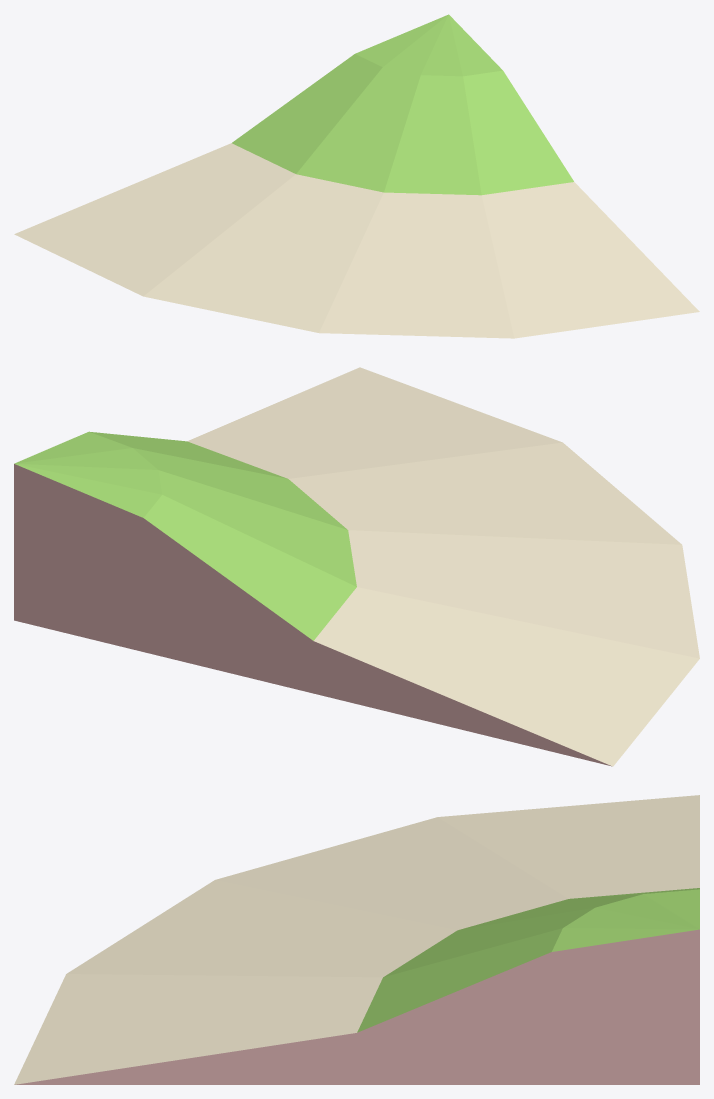
File: Path_Terrain_Basic_Curve_Outer_1x1.glb
3 renders of one model, top to bottom at view 1: azimuth 30°, elevation 25°; view 2: azimuth 150°, elevation 25°; view 3: azimuth 270°, elevation 25°, orthographic. The views are drawn at different scales.
Visible parts, largest first — view 1: Path_Terrain_Basic_Curve_Outer_1x1; view 2: Path_Terrain_Basic_Curve_Outer_1x1; view 3: Path_Terrain_Basic_Curve_Outer_1x1.
Boxes of the visible parts, box(x1,y1,x2,y2) form: Path_Terrain_Basic_Curve_Outer_1x1: box(14, 14, 699, 338); Path_Terrain_Basic_Curve_Outer_1x1: box(14, 367, 699, 766); Path_Terrain_Basic_Curve_Outer_1x1: box(14, 795, 699, 1084).
Bounding box in the file's own units: 100 × 25 × 100.
